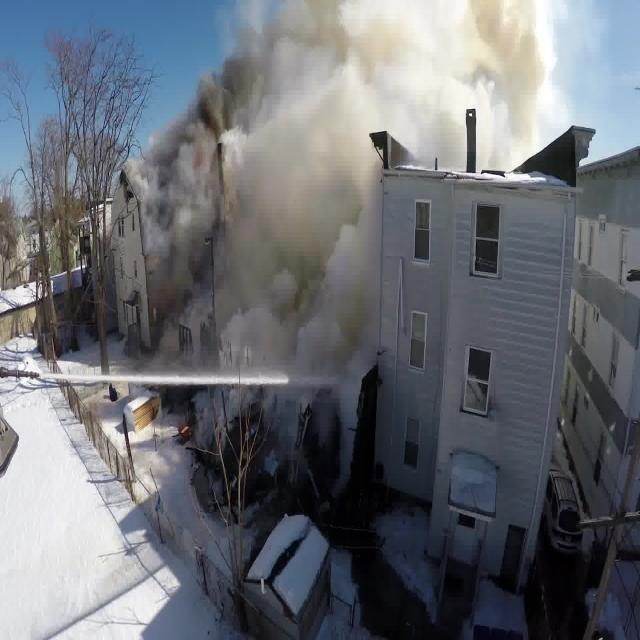Smoke: (124, 0, 568, 379)
